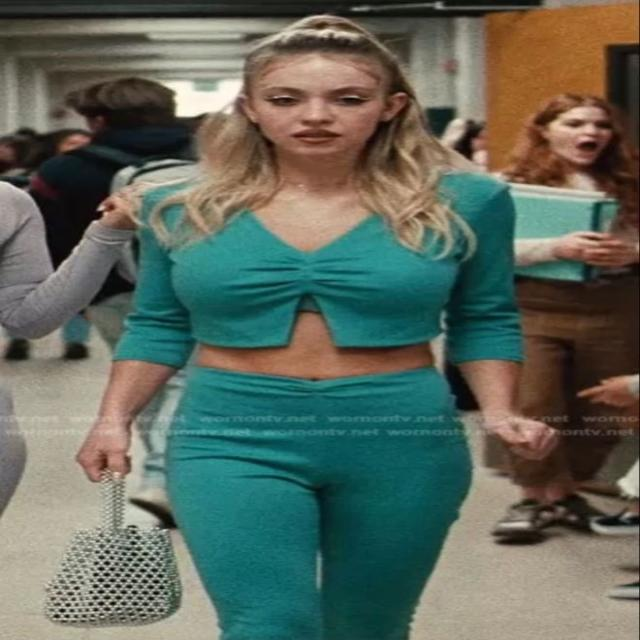natural: (256, 61, 387, 159)
